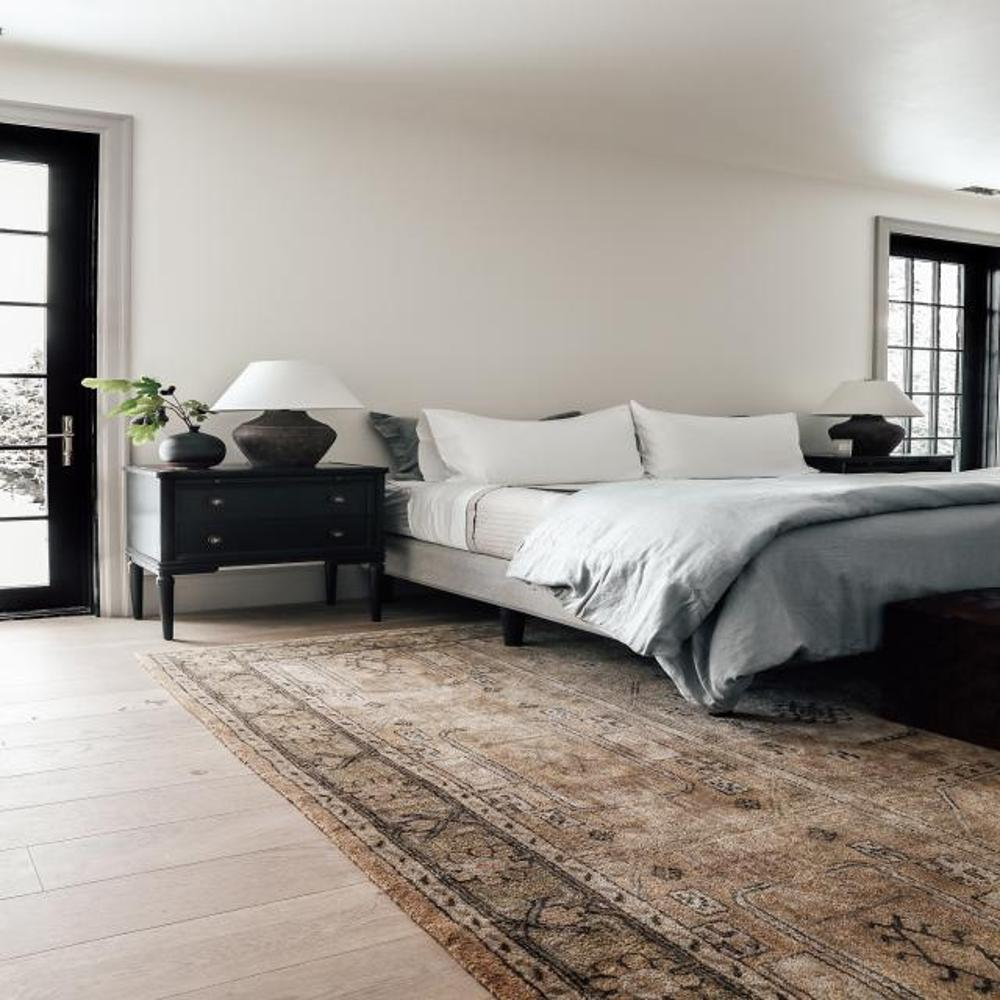shelf: (201, 338, 375, 473)
